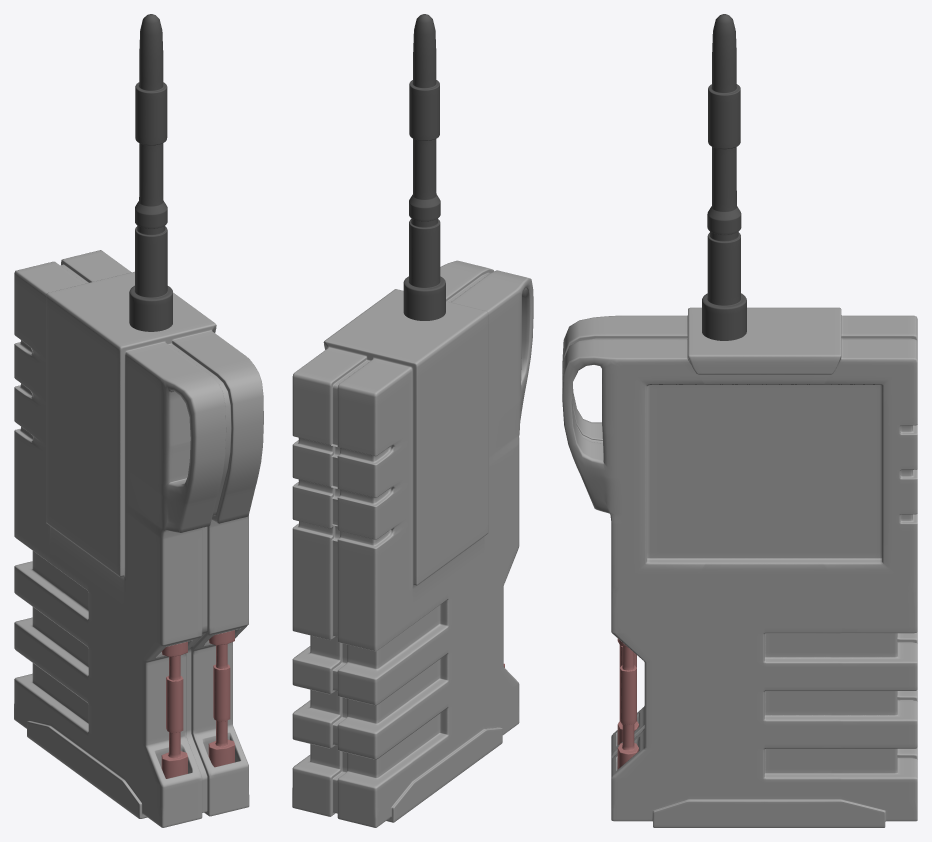
The model's file is Funkgeraet_Hi.fbx.
3 renders of one model, left to right at view 1: azimuth 30°, elevation 25°; view 2: azimuth 150°, elevation 25°; view 3: azimuth 270°, elevation 25°, orthographic. The views are drawn at different scales.
Parts seen in each view (by area): view 1: Body, Antenne, Stangen; view 2: Body, Antenne; view 3: Body, Antenne, Stangen.
Boxes of the visible parts, x1,y1,x2,y2 form: Body: (14, 250, 263, 827); Antenne: (129, 14, 172, 331); Stangen: (161, 630, 234, 778); Body: (292, 260, 533, 827); Antenne: (403, 14, 445, 320); Body: (562, 307, 917, 827); Antenne: (702, 14, 746, 340); Stangen: (617, 638, 638, 769).
Bounding box in the file's own units: 0.5684 × 4.27 × 1.74.
